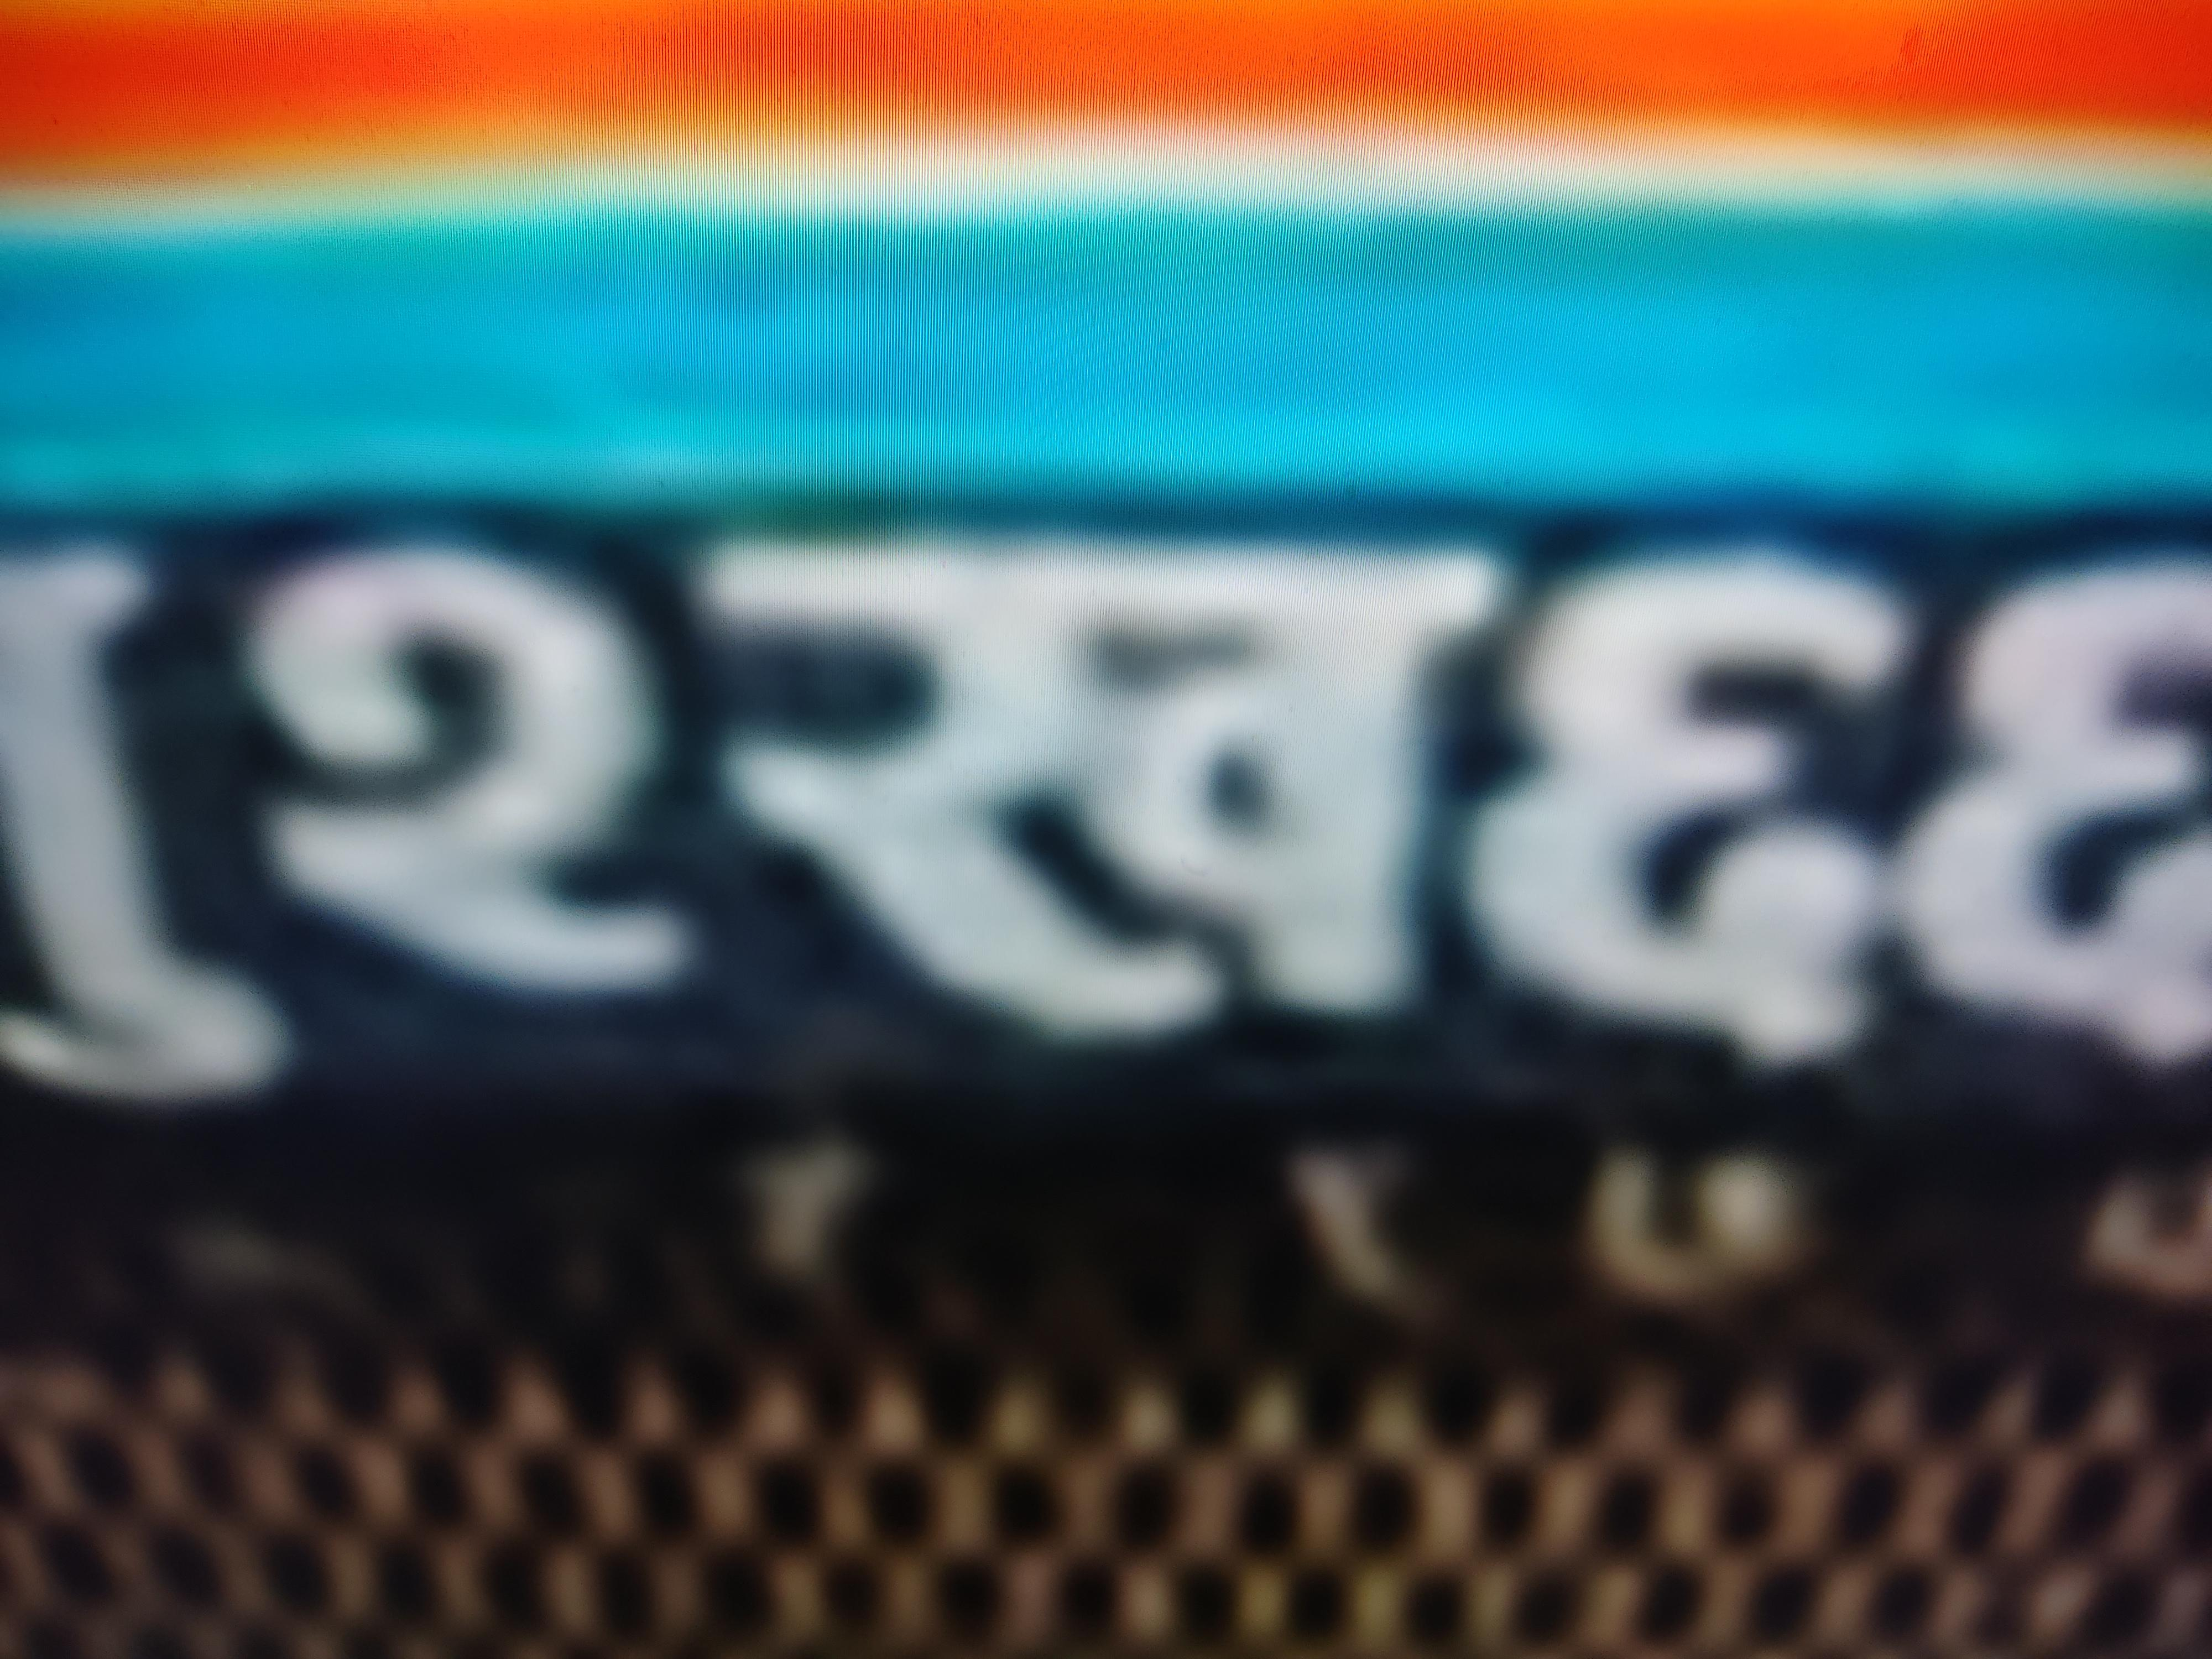2: (252, 523, 734, 1108)
3: (1875, 529, 2212, 1140)
6: (1446, 533, 1933, 1136)
kha: (681, 482, 1428, 1100)
